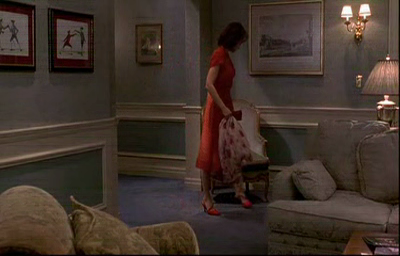ls: (1, 1, 400, 256)
person: (195, 21, 252, 214)
